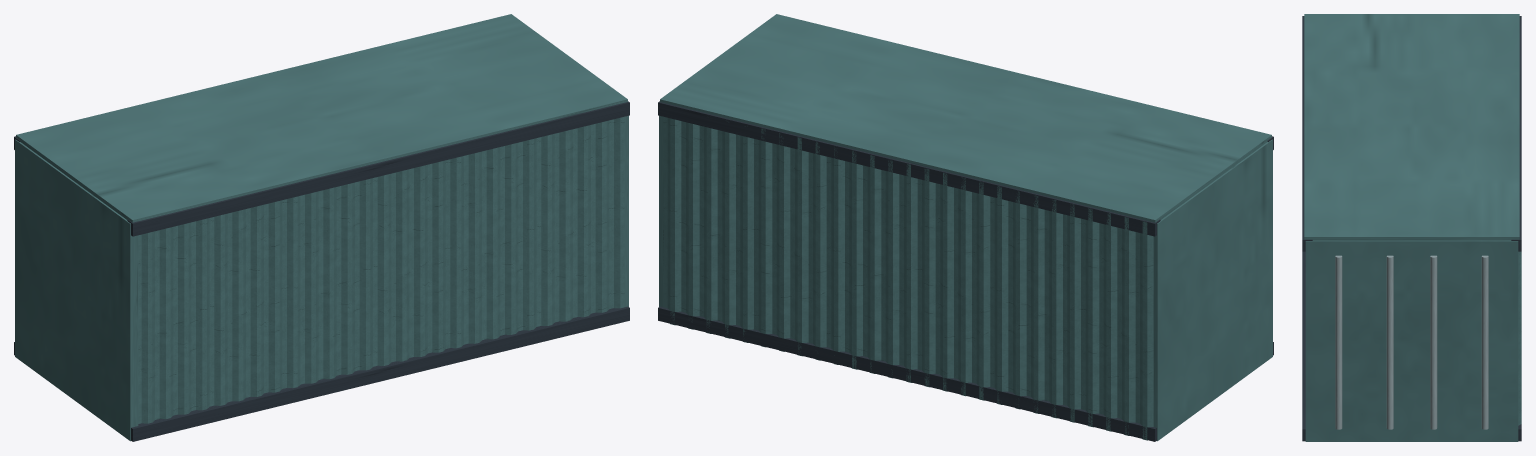
File: ShippingContainer.glb
3 views of the same model, side by side, from view 1: azimuth 30°, elevation 25°; view 2: azimuth 150°, elevation 25°; view 3: azimuth 270°, elevation 25° (orthographic). The views are drawn at different scales.
Visible parts, largest first — view 1: Fluted side, Roof, End, Frame, Frame.001, End.001; view 2: Fluted side.001, Roof, End, Frame.002, Frame.003, End.001; view 3: Roof, End.001, Lock bar, Lock bar.003, Lock bar.001, Lock bar.002, Frame, Frame.001, Frame.003, Fluted side.001.
Boxes of the visible parts, <box> form: Fluted side: <box>138,116,624,423</box>; Roof: <box>16,14,627,222</box>; End: <box>15,139,138,441</box>; Frame: <box>131,306,629,441</box>; Frame.001: <box>127,101,629,236</box>; End.001: <box>624,115,628,306</box>; Fluted side.001: <box>663,116,1153,440</box>; Roof: <box>660,14,1271,222</box>; End: <box>1153,139,1272,441</box>; Frame.002: <box>658,306,1156,441</box>; Frame.003: <box>658,101,1160,236</box>; End.001: <box>659,115,667,307</box>; Roof: <box>1304,14,1519,240</box>; End.001: <box>1305,240,1518,441</box>; Lock bar: <box>1335,255,1342,429</box>; Lock bar.003: <box>1481,255,1488,429</box>; Lock bar.001: <box>1386,255,1393,429</box>; Lock bar.002: <box>1430,255,1437,429</box>; Frame: <box>1302,251,1305,441</box>; Frame.001: <box>1302,16,1312,251</box>; Frame.003: <box>1511,16,1521,251</box>; Fluted side.001: <box>1518,251,1521,425</box>.
Bounding box in the file's own units: 6.16 × 2.58 × 2.52.
3 materials, 3 textured.
